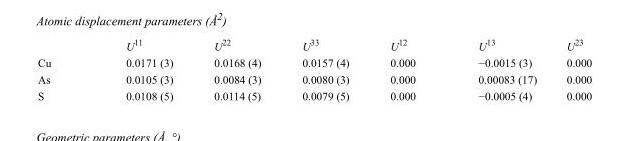table: (37, 36, 591, 101)
table column: (87, 36, 192, 101), (446, 36, 550, 101), (280, 36, 369, 101), (192, 36, 280, 101), (369, 36, 446, 101), (37, 36, 87, 101), (550, 36, 591, 101)
table column header: (37, 36, 591, 53)
table row: (37, 36, 591, 53), (37, 53, 591, 70), (37, 70, 591, 87), (37, 87, 591, 101)
